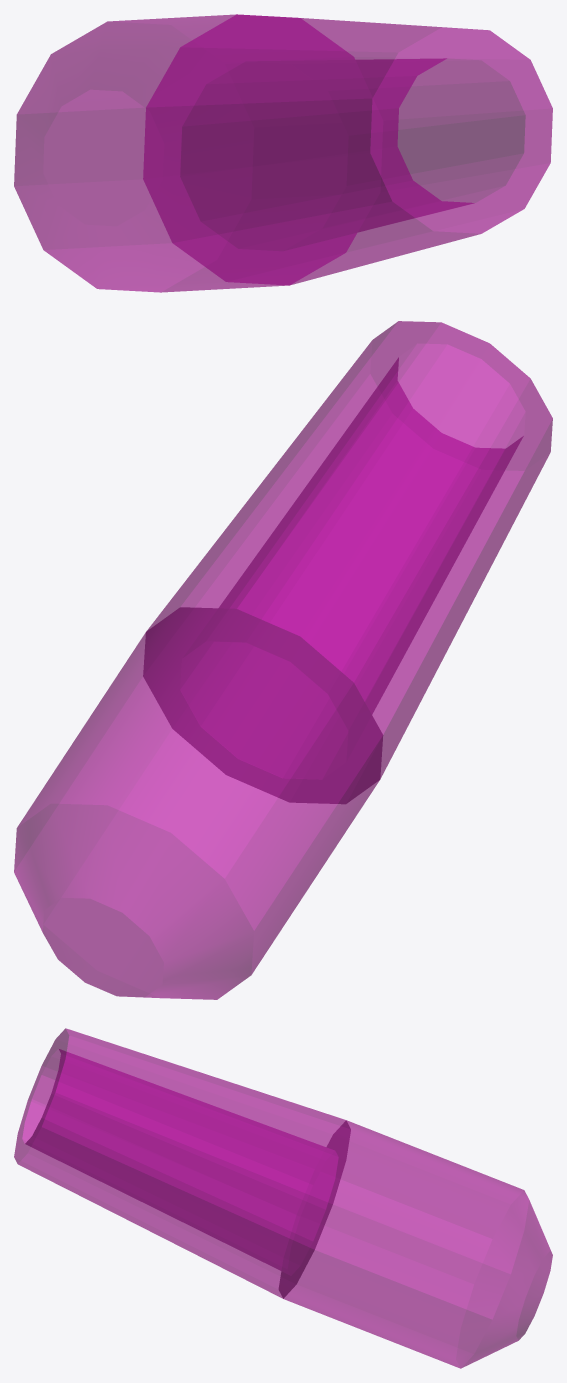
Rendered from SM_Wep_Cannon_01_Cannon_01_Collision.fbx.
3 renders of one model, top to bottom at view 1: azimuth 30°, elevation 25°; view 2: azimuth 150°, elevation 25°; view 3: azimuth 270°, elevation 25°, orthographic. The views are drawn at different scales.
Parts seen in each view (by area): view 1: SM_Wep_Cannon_01_Cannon_01_Collision; view 2: SM_Wep_Cannon_01_Cannon_01_Collision; view 3: SM_Wep_Cannon_01_Cannon_01_Collision.
Boxes of the visible parts, x1,y1,x2,y2 form: SM_Wep_Cannon_01_Cannon_01_Collision: (14,14,552,292); SM_Wep_Cannon_01_Cannon_01_Collision: (14,321,552,999); SM_Wep_Cannon_01_Cannon_01_Collision: (14,1028,552,1368).
Size of the model in its own units: 79.43 by 149 by 224.
